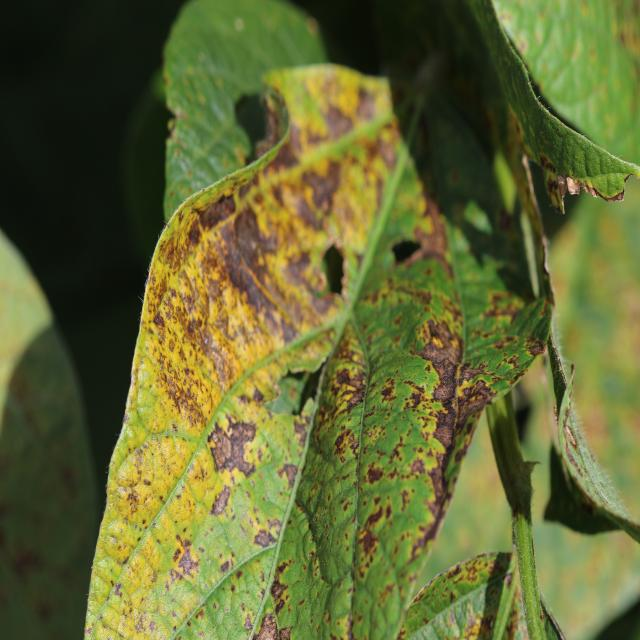Bacterial_Blight: (201, 195, 331, 342), (389, 191, 453, 277), (201, 406, 269, 484), (156, 342, 208, 423), (424, 350, 466, 428), (299, 166, 339, 213), (413, 318, 457, 357), (317, 98, 355, 140), (333, 364, 367, 408), (174, 544, 201, 581), (334, 427, 358, 459), (252, 611, 279, 639), (358, 526, 380, 558), (252, 528, 276, 549), (125, 486, 142, 510), (366, 463, 385, 484), (270, 578, 287, 601), (409, 456, 427, 476), (529, 338, 547, 357), (380, 381, 396, 402), (253, 386, 266, 404), (134, 613, 145, 633), (152, 311, 164, 329), (220, 559, 232, 573), (113, 582, 123, 597)
Soybean: (85, 64, 549, 640)
